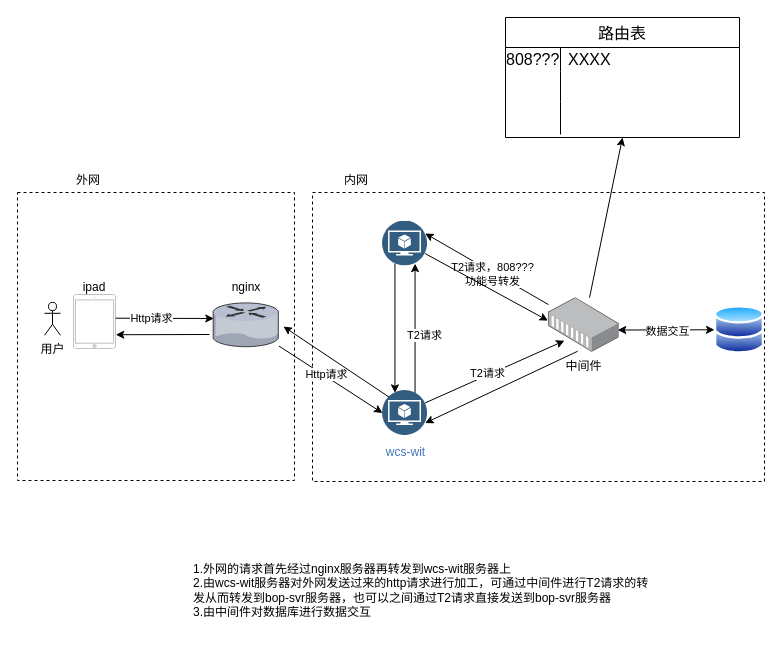
The diagram is 782 pixels wide and 651 high, and some of its shapes have lost their labels. The shapes that lost their labels are listed below. From the top down, each one's centre as x and y in pixels, then its label:
point 404,243: bop-svr
point 739,329: 数据库
